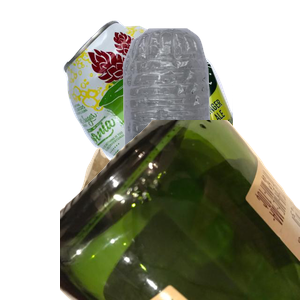glass: (60, 120, 300, 300)
metal: (60, 18, 300, 198)
plastic: (111, 26, 300, 206)
trash: (60, 142, 300, 300)
